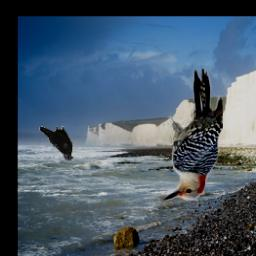Crow: (40, 126, 74, 160)
Woodpecker: (162, 69, 223, 201)
